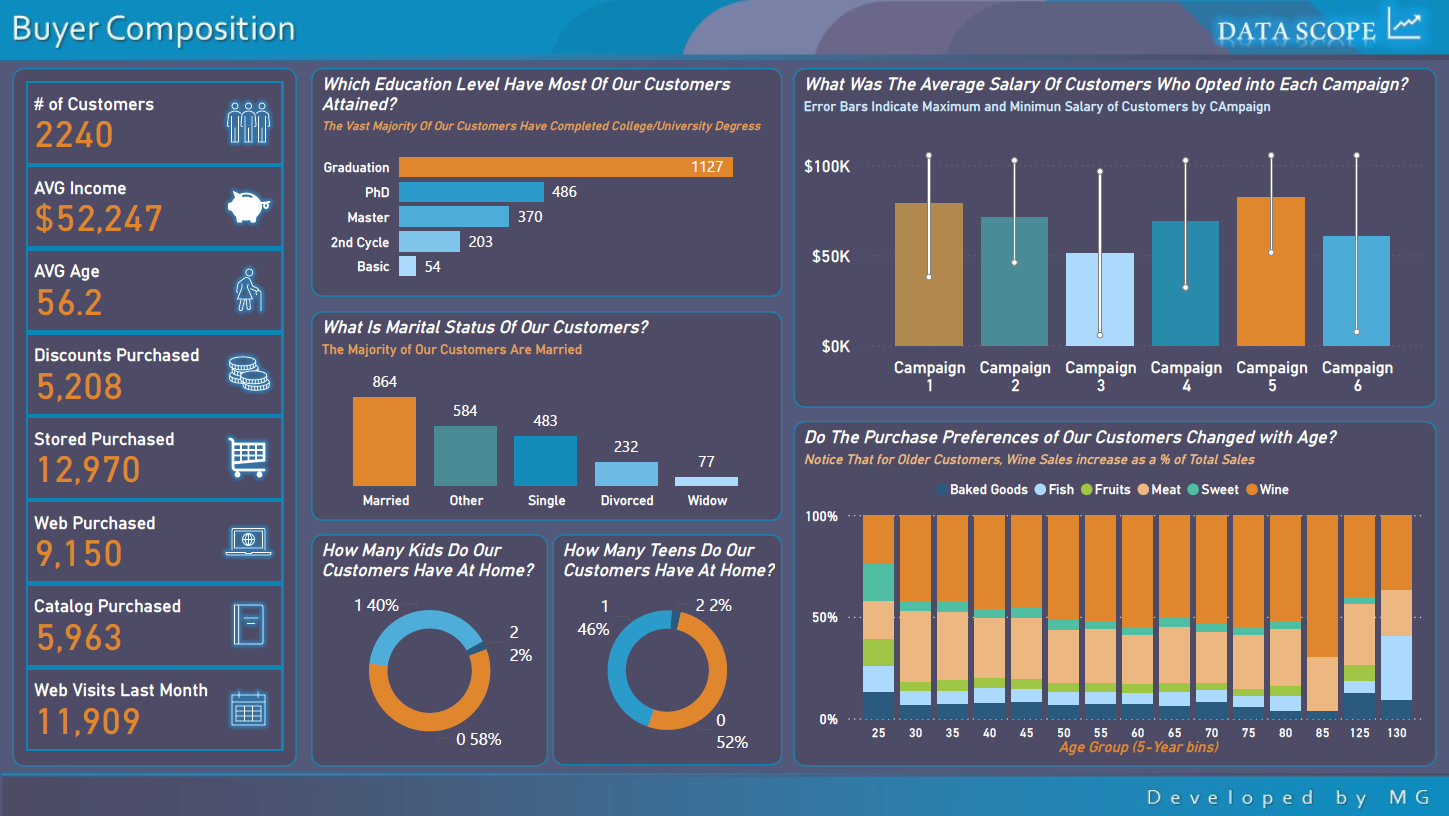

The page's visual inventory and layout, read from the dashboard file:
{"tool":"powerbi","page":{"name":"Buyer Composition","canvas":[1280,720],"ordinal":2},"visuals":[{"type":"barChart","title":"Which Education Level Have Most Of Our Customers Attained?","fields":{"Category":["marketmindz_research_data.Education"],"Y":["Count(marketmindz_research_data.ID)"]},"box":[275.3,59.9,415.5,202.2],"z":0},{"type":"columnChart","title":"What Is Marital Status Of Our Customers?","fields":{"Category":["marketmindz_research_data.Marital_Status"],"Y":["CountNonNull(marketmindz_research_data.ID)"]},"box":[275.3,275.3,415.5,184.9],"z":1000},{"type":"donutChart","title":"How Many Kids Do Our Customers Have At Home?","fields":{"Category":["marketmindz_research_data.Kidhome"],"Y":["CountNonNull(marketmindz_research_data.ID)"]},"box":[275.3,472.4,208.3,204.2],"z":2000},{"type":"donutChart","title":"How Many Teens Do Our Customers Have At Home?","fields":{"Category":["marketmindz_research_data.Teenhome"],"Y":["CountNonNull(marketmindz_research_data.ID)"]},"box":[487.6,472.4,203.2,204],"z":3000},{"type":"columnChart","title":"What Was The Average Salary Of Customers Who Opted  into Each Campaign?","fields":{"Category":["Campaign.Campaign"],"Y":["Avg(marketmindz_research_data. Income )"]},"box":[701,59.9,567.9,299.7],"z":4000},{"type":"hundredPercentStackedColumnChart","title":"Do The Purchase Preferences of Our Customers Changed with Age?","fields":{"Y":["Sum(Products.Total Sales)"],"Series":["Products.Product"],"Category":["marketmindz_research_data.Age Group"]},"box":[701,371.8,567.9,304.8],"z":5000},{"type":"cardVisual","fields":{"Data":["CountNonNull(marketmindz_research_data.ID)","Avg(marketmindz_research_data. Income )","Avg(marketmindz_research_data.Age)","Sum(marketmindz_research_data.Purchased - Deal)","Sum(marketmindz_research_data.Purchased - Store)","Sum(marketmindz_research_data.Purchased - Web)","Sum(marketmindz_research_data.Purchased -Catalog)","Sum(marketmindz_research_data.Web Visits Last Month)"]},"box":[11.2,59.9,250.9,616.6],"z":6000}]}

Visuals, with their boxes in screenshot pixels (x1, y1, x2, y2), scaled from the page's 1280x720 canvas onto the 1449x816 screenshot:
"Which Education Level Have Most Of Our Customers Attained?" barChart: [x1=312, y1=68, x2=782, y2=297]
"What Is Marital Status Of Our Customers?" columnChart: [x1=312, y1=312, x2=782, y2=522]
"How Many Kids Do Our Customers Have At Home?" donutChart: [x1=312, y1=535, x2=547, y2=767]
"How Many Teens Do Our Customers Have At Home?" donutChart: [x1=552, y1=535, x2=782, y2=767]
"What Was The Average Salary Of Customers Who Opted  into Each Campaign?" columnChart: [x1=794, y1=68, x2=1436, y2=408]
"Do The Purchase Preferences of Our Customers Changed with Age?" hundredPercentStackedColumnChart: [x1=794, y1=421, x2=1436, y2=767]
cardVisual - CountNonNull(marketmindz_research_data.ID) x Avg(marketmindz_research_data. Income ): [x1=13, y1=68, x2=297, y2=767]
